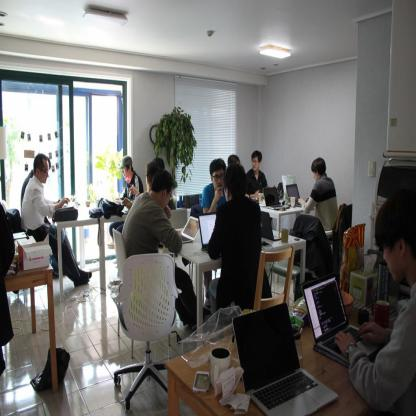board: (232, 301, 338, 416), (301, 272, 380, 364), (263, 186, 290, 209), (200, 211, 215, 252), (260, 211, 281, 239), (181, 216, 200, 243), (286, 184, 300, 207)
